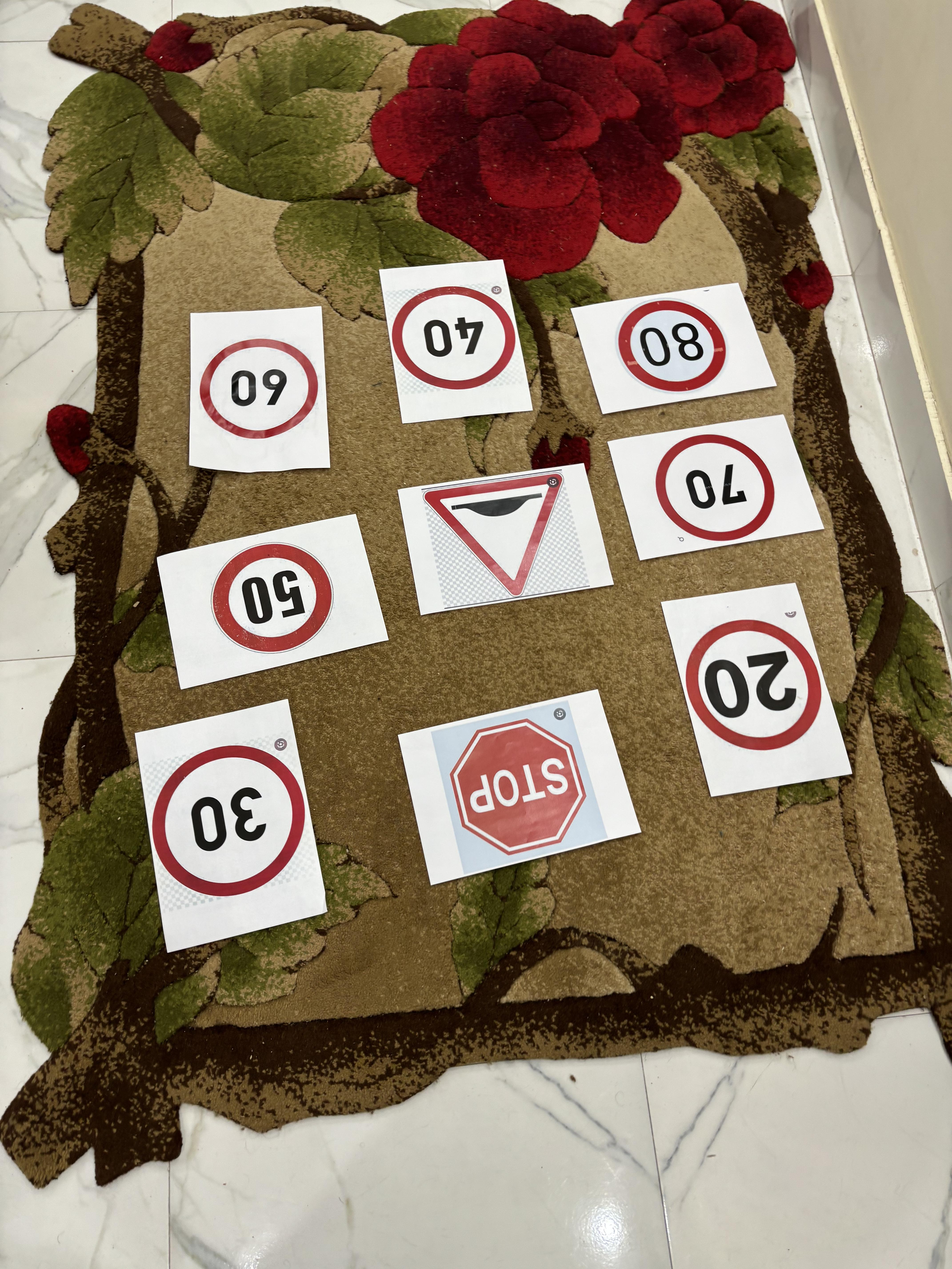20-Speed: (682, 616, 825, 749)
30-speed: (150, 745, 305, 908)
40-Speed: (394, 283, 518, 397)
50-Speed: (216, 545, 338, 657)
60-Speed: (198, 329, 327, 442)
70-Speed: (651, 423, 776, 550)
80-Speed: (616, 287, 732, 397)
Hump: (426, 460, 576, 595)
Stop: (447, 714, 587, 856)
